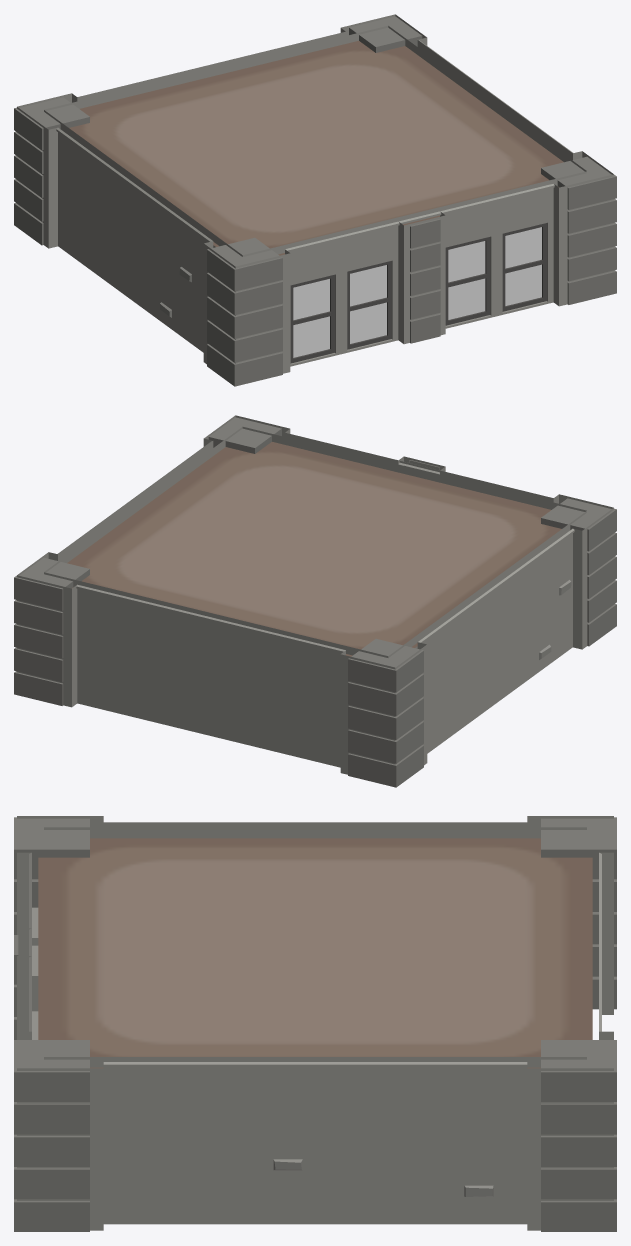
Rendered from SM_Bldg_City_High-Rise_05_Top.fbx.
3 renders of one model, top to bottom at view 1: azimuth 30°, elevation 25°; view 2: azimuth 150°, elevation 25°; view 3: azimuth 270°, elevation 25°, orthographic. The views are drawn at different scales.
Parts seen in each view (by area): view 1: SM_Bldg_City_High-Rise_05_Top, SM_Bldg_City_High-Rise_05_Top_Glass; view 2: SM_Bldg_City_High-Rise_05_Top; view 3: SM_Bldg_City_High-Rise_05_Top.
Boxes of the visible parts, <box> form: SM_Bldg_City_High-Rise_05_Top: <box>14,14,616,386</box>; SM_Bldg_City_High-Rise_05_Top_Glass: <box>293,227,541,357</box>; SM_Bldg_City_High-Rise_05_Top: <box>14,415,616,787</box>; SM_Bldg_City_High-Rise_05_Top: <box>14,816,616,1231</box>.
Size of the model in its own units: 1010 by 300 by 1010.
